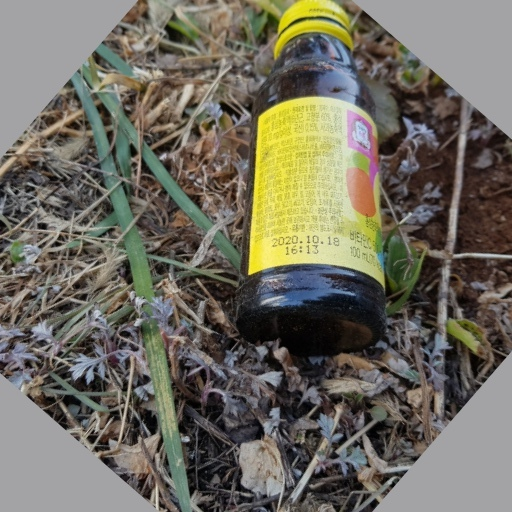Glass_3: (237, 1, 387, 355)
